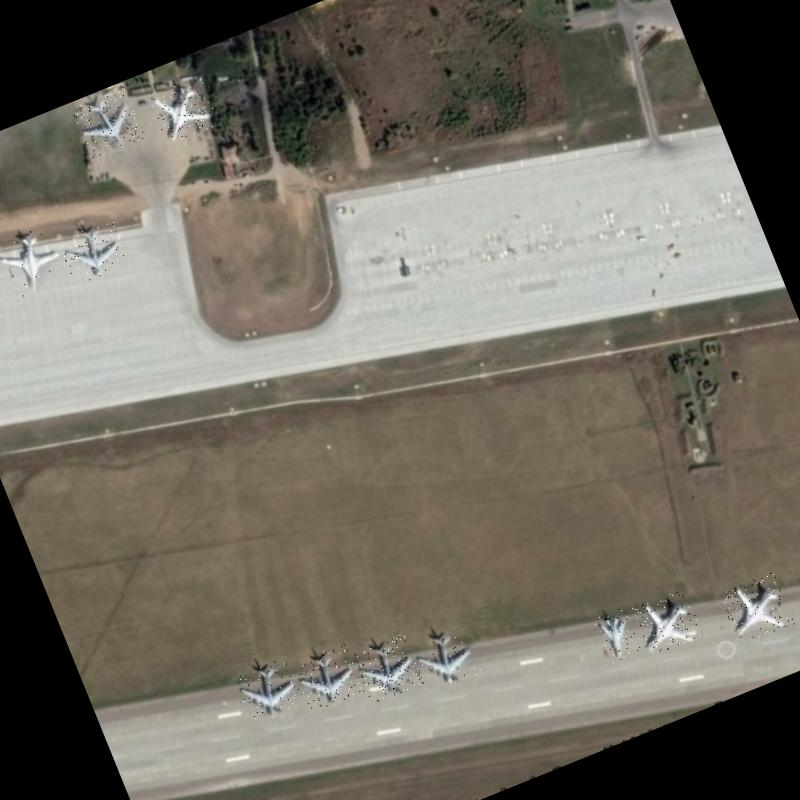A12: (592, 605, 642, 663)
A17: (70, 87, 146, 160), (351, 632, 424, 704), (291, 643, 365, 714), (57, 217, 131, 287), (411, 622, 483, 692), (234, 656, 304, 724)
A6: (718, 568, 794, 646), (0, 221, 71, 299), (631, 586, 703, 656), (147, 74, 219, 144)
